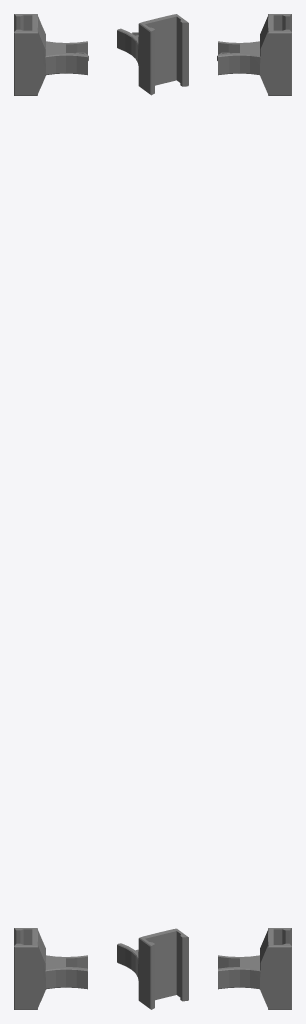
Rendered from SniperIronSights.glb.
3 views of the same model, side by side, from view 1: azimuth 90°, elevation 25°; view 2: azimuth 210°, elevation 25°; view 3: azimuth 270°, elevation 25° (orthographic).
Visible parts, largest first — view 1: SniperIronSights; view 2: SniperIronSights; view 3: SniperIronSights.
Part boxes in pixels (x1,y1,x2,y2): SniperIronSights: (14,14,88,1009); SniperIronSights: (117,14,188,1009); SniperIronSights: (217,14,291,1009).
Bounding box in the file's own units: 0.7462 × 18.09 × 1.25.
1 material, 1 textured.
